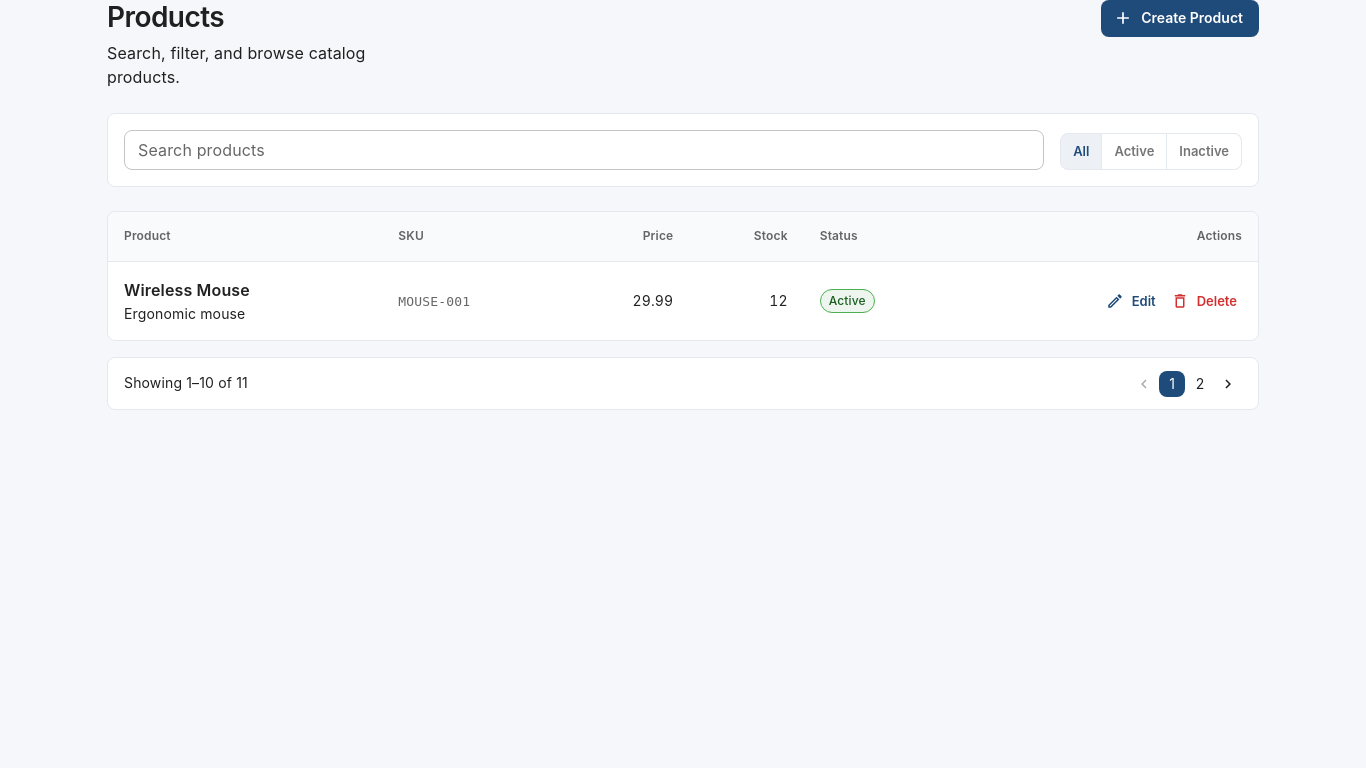
Test: ProductsPage › reuses pagination recovery after deleting the last Product on the last page
expect the text "Wireless Mouse" is shown: met, box left=124, top=280, right=250, bottom=300
Click the button named "Go to page 2" at (1200, 384), box left=1187, top=371, right=1213, bottom=397
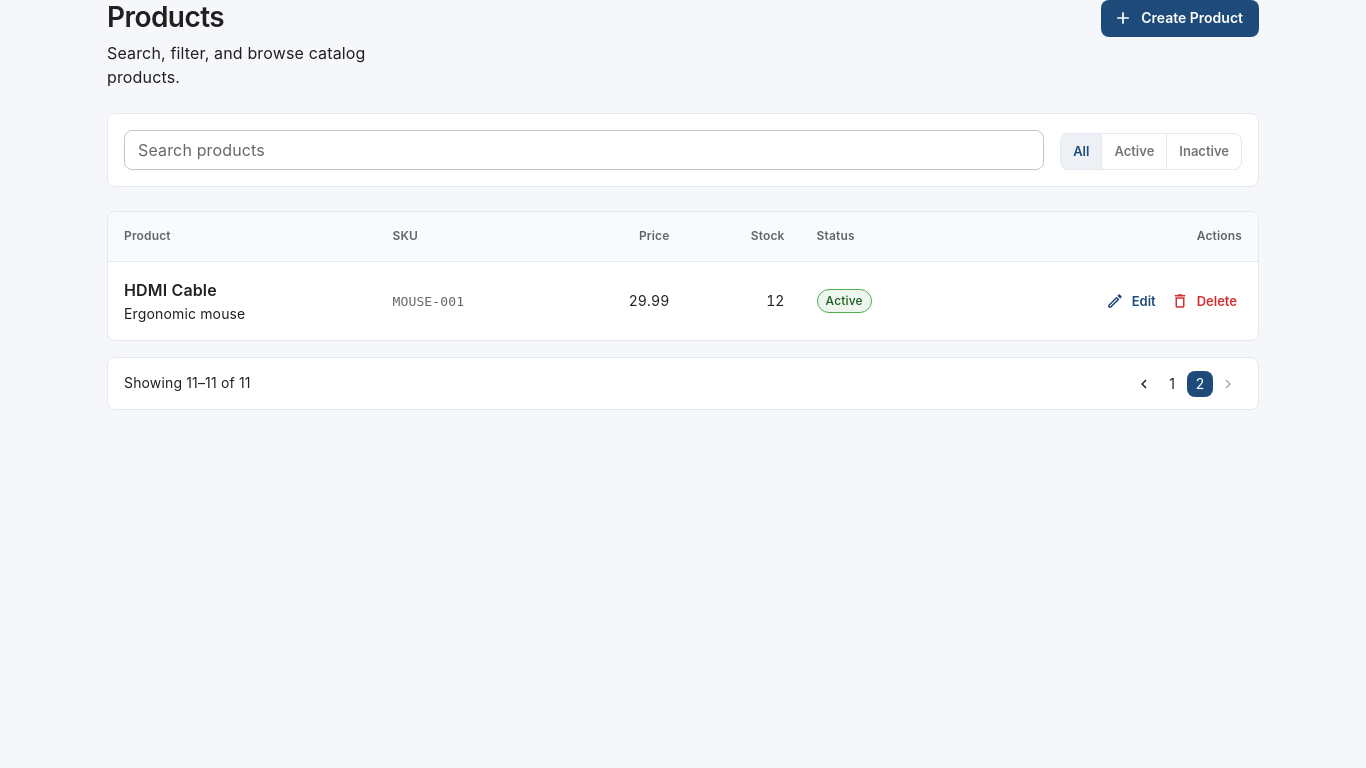
expect the text "HDMI Cable" is shown: met, box left=124, top=280, right=217, bottom=300
Click the button with aria-label "Delete HDMI Cable" at (1205, 301), box left=1168, top=286, right=1242, bottom=316
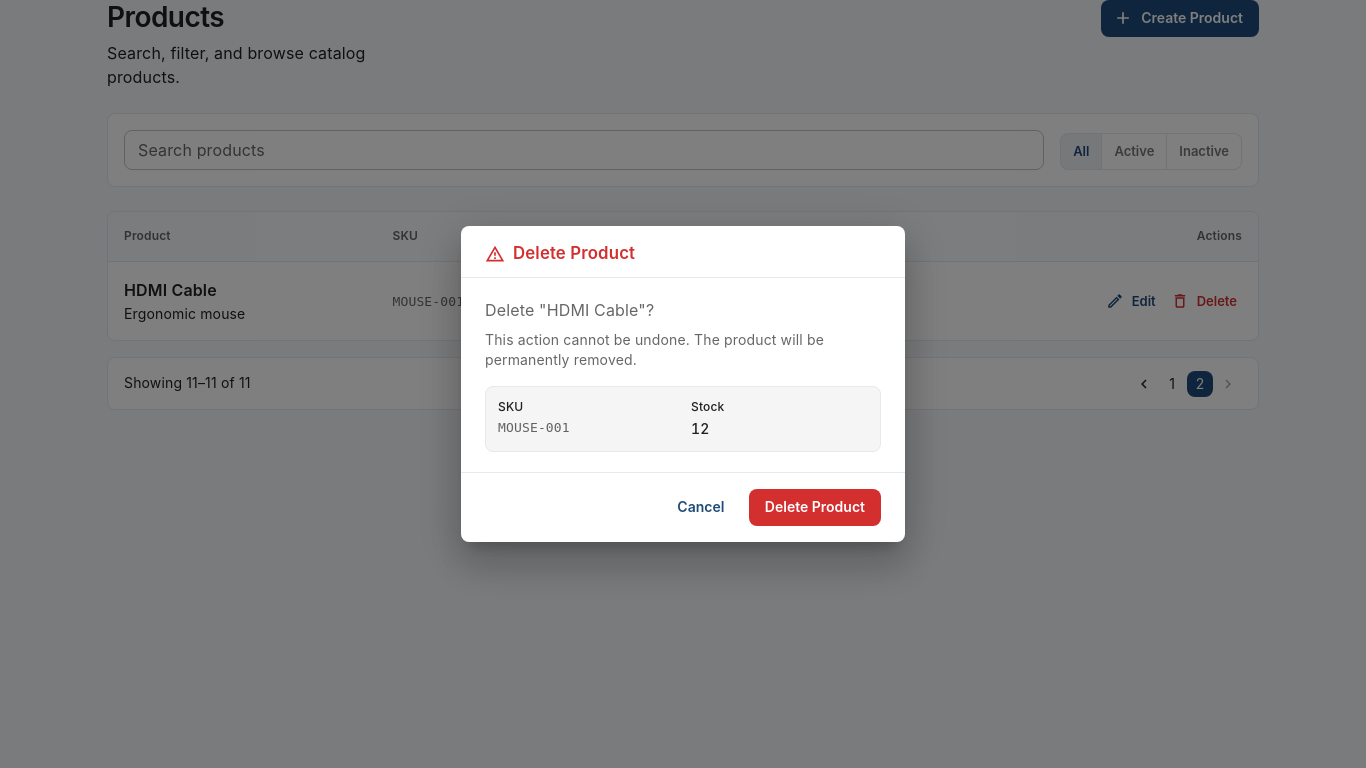
Click the button "Delete Product" at (815, 508), box left=749, top=489, right=881, bottom=526
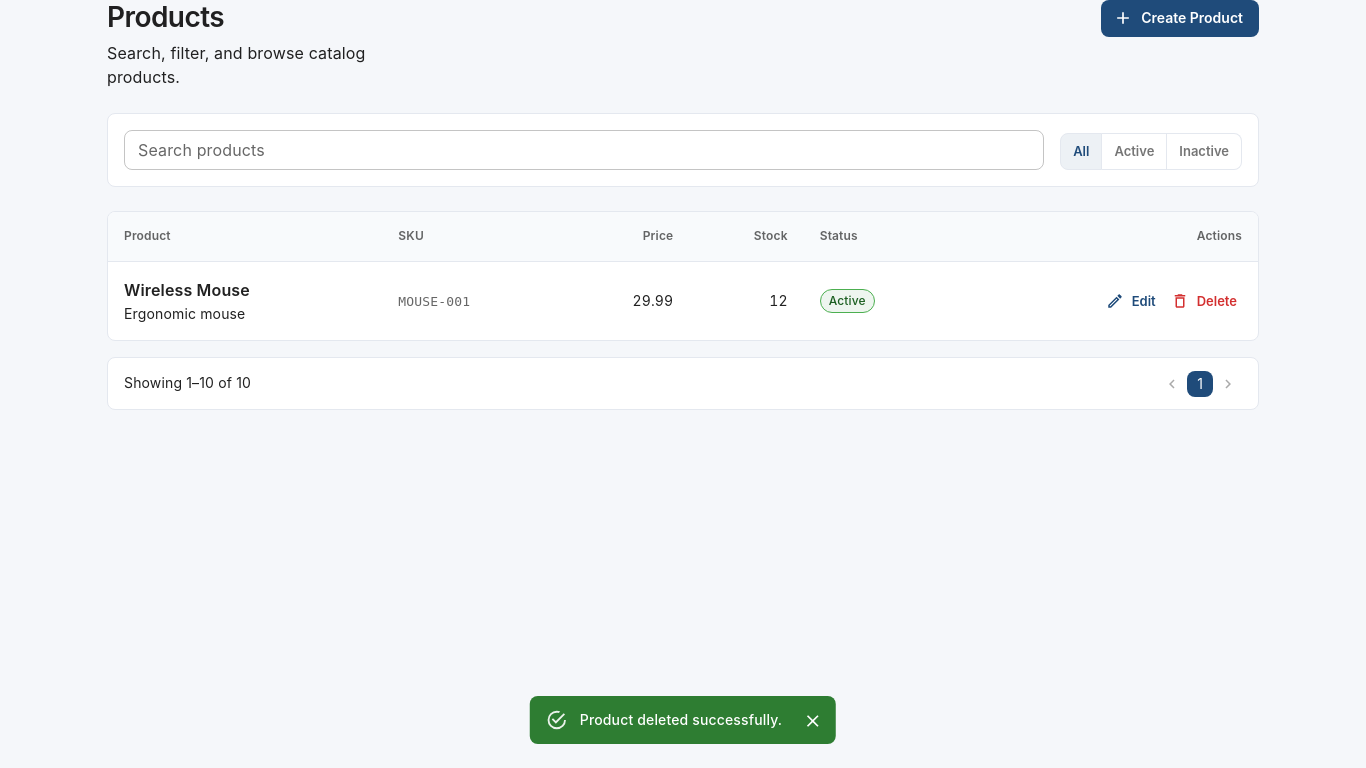
expect the text "Product deleted successfully." is shown: met, box left=580, top=711, right=782, bottom=728
expect the text "Wireless Mouse" is shown: met, box left=124, top=280, right=250, bottom=300
expect the text "HDMI Cable" is gone: met
